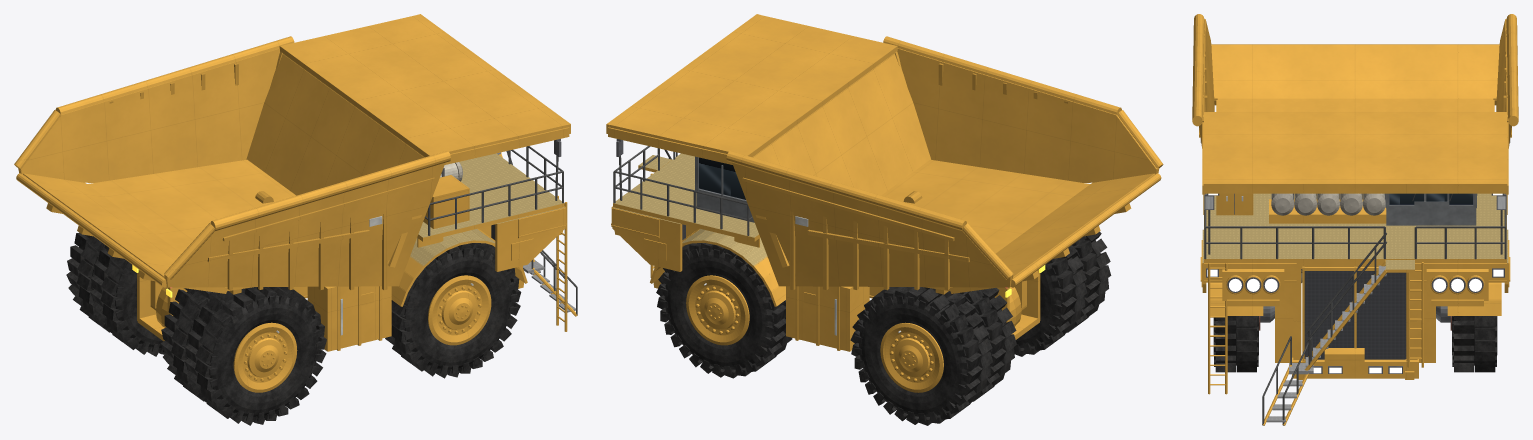
File: RIGID_HAUL_TRUCK_v5.glb
3 renders of one model, left to right at view 1: azimuth 30°, elevation 25°; view 2: azimuth 150°, elevation 25°; view 3: azimuth 270°, elevation 25°, orthographic.
Parts seen in each view (by area): view 1: Dump_Body, Tyres, Deck, Rim_Assembly, Hydraulic_Tank, Hand_Rail, Electrical_Cabinet, Chassis_Frame, Access_Ladder, Deck_Fascia; view 2: Dump_Body, Tyres, Deck, Rim_Assembly, Fuel_Tank, Hand_Rail, Chassis_Frame, Deck_Fascia, Cabin_Glass, Cabin; view 3: Dump_Body, Deck, Cooling_Radiator, Deck_Fascia, Tyres, Access_Ladder, Hand_Rail, Chassis_Frame, Intake_Exhaust, Front_Bumper, Cabin, Lights (+5 smaller).
Boxes of the visible parts, x1,y1,x2,y2 form: Dump_Body: (14, 14, 570, 294); Tyres: (66, 232, 521, 425); Deck: (391, 153, 565, 306); Rim_Assembly: (233, 275, 491, 392); Hydraulic_Tank: (307, 286, 391, 351); Hand_Rail: (424, 146, 577, 315); Electrical_Cabinet: (423, 175, 469, 228); Chassis_Frame: (137, 225, 522, 341); Access_Ladder: (497, 152, 577, 331); Deck_Fascia: (511, 206, 565, 260); Dump_Body: (606, 14, 1163, 294); Tyres: (656, 231, 1111, 425); Deck: (612, 153, 785, 306); Rim_Assembly: (686, 275, 943, 392); Fuel_Tank: (786, 286, 869, 351); Hand_Rail: (613, 146, 752, 235); Chassis_Frame: (654, 225, 1040, 339); Deck_Fascia: (611, 206, 666, 260); Cabin_Glass: (699, 157, 745, 199); Cabin: (695, 156, 754, 222); Dump_Body: (1192, 14, 1518, 214); Deck: (1202, 193, 1508, 315); Cooling_Radiator: (1304, 271, 1406, 359); Deck_Fascia: (1201, 240, 1509, 306); Tyres: (1213, 316, 1497, 372); Access_Ladder: (1208, 260, 1423, 425); Hand_Rail: (1204, 193, 1506, 425); Chassis_Frame: (1275, 263, 1435, 362); Intake_Exhaust: (1269, 193, 1386, 223); Front_Bumper: (1292, 348, 1418, 379); Cabin: (1385, 193, 1477, 225); Lights: (1206, 193, 1504, 373).
Bounding box in the file's own units: 15.09 × 7.72 × 9.53.
80 materials, 74 textured.
